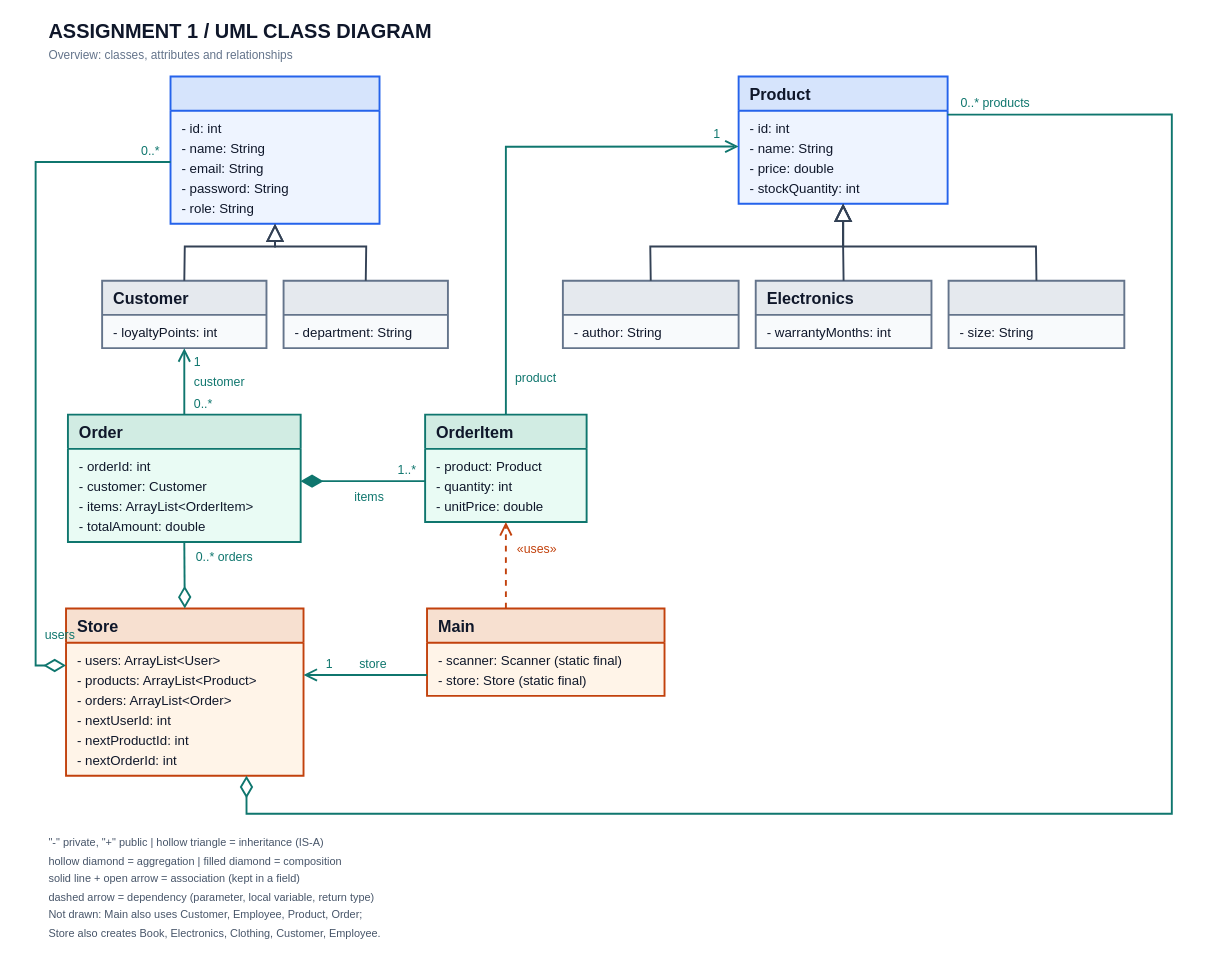
This 1207x959 diagram has some shape labels left out. The shapes that lost their labels are listed below. From the top down, each one's box as (x1, y1, x2, y2) in pixels, then its label:
(169, 75, 380, 224): User
(282, 279, 448, 349): Employee
(561, 279, 739, 349): Book
(947, 279, 1125, 349): Clothing
